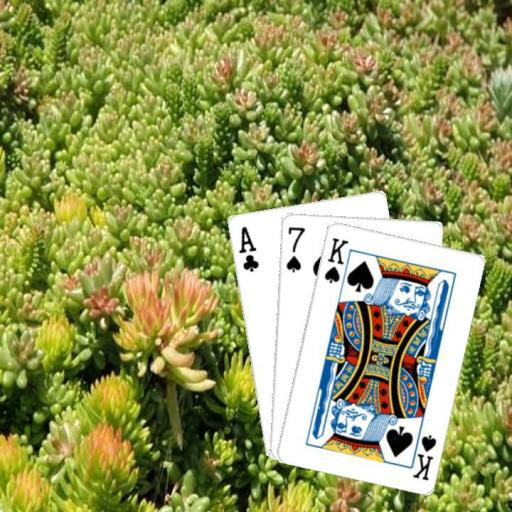7S: (282, 223, 306, 273)
AC: (235, 223, 260, 273)
KS: (406, 425, 438, 482), (321, 234, 349, 285)
